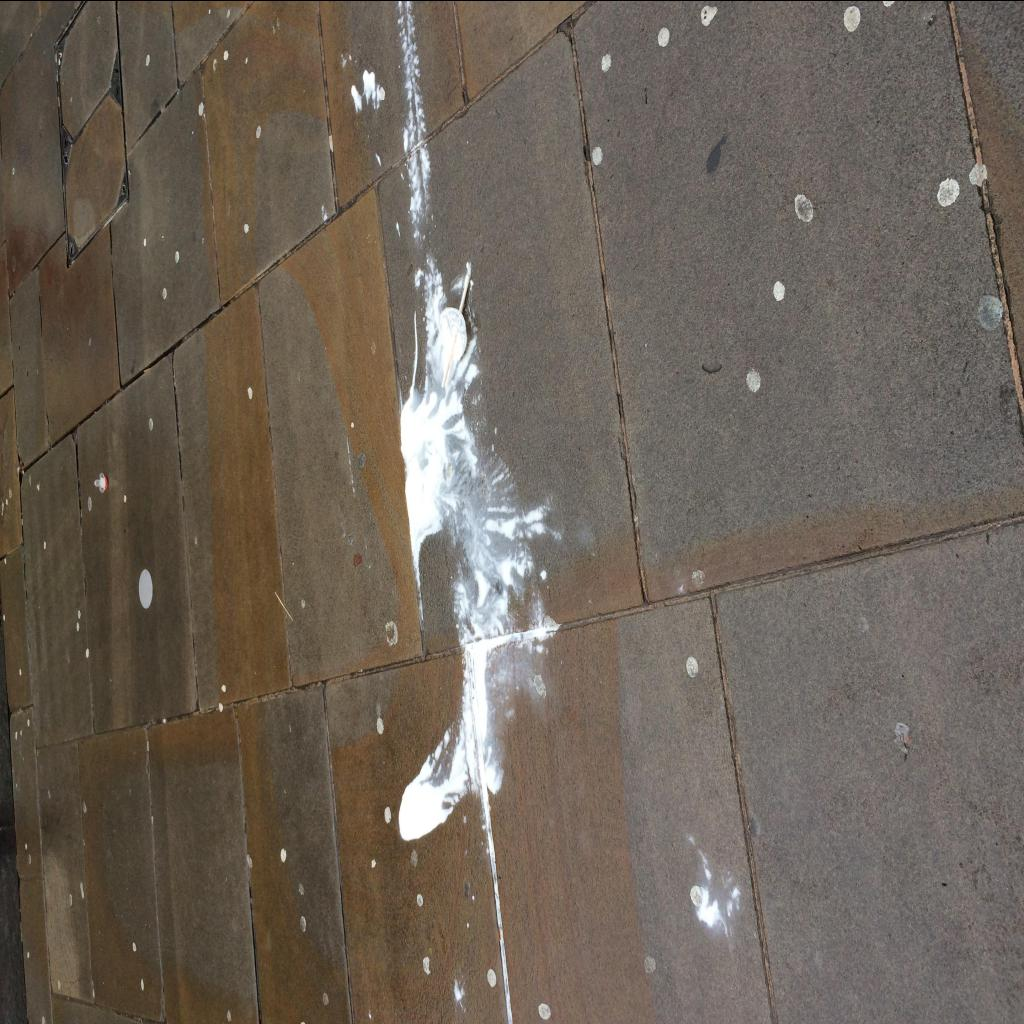Other plastic wrapper: (94, 472, 108, 492)
Plastic lid: (439, 306, 467, 358)
Plastic straw: (441, 274, 471, 386)
